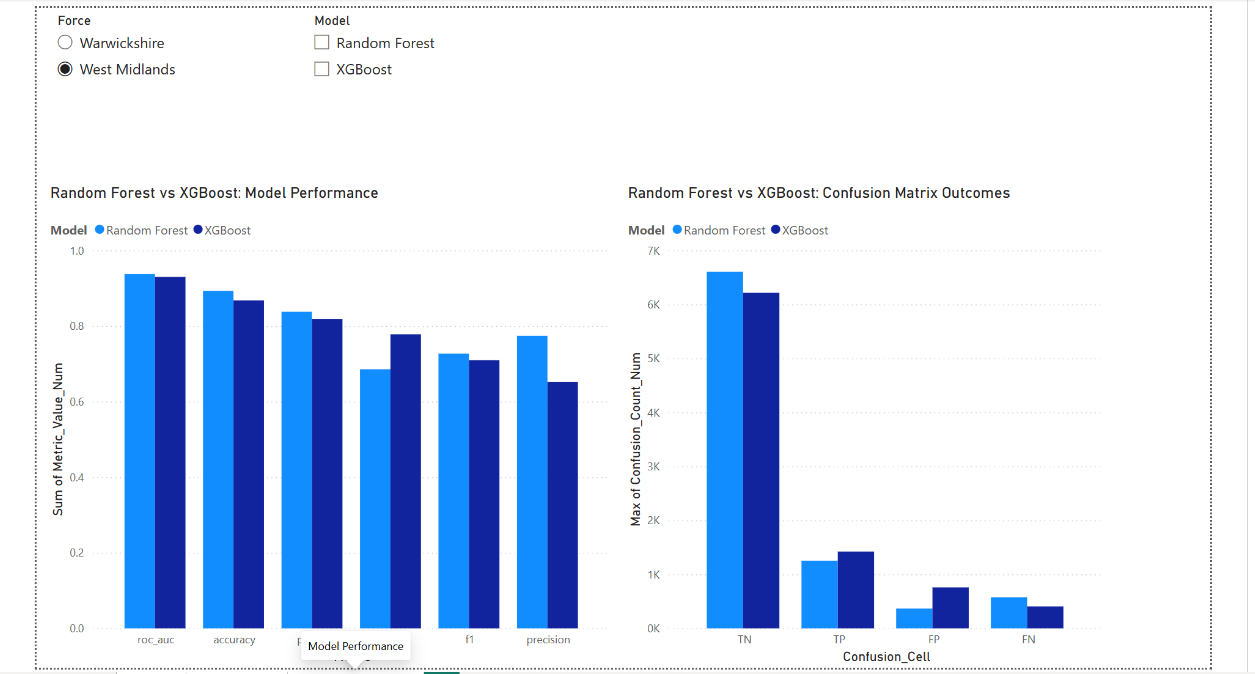

The page's visual inventory and layout, read from the dashboard file:
{"tool":"powerbi","page":{"name":"Model Performance","canvas":[1280,720],"ordinal":2},"visuals":[{"type":"slicer","fields":{"Values":["CrimeHotspot.Force"]},"box":[10,0,280,102.2],"z":0},{"type":"slicer","fields":{"Values":["CrimeHotspot.Model"]},"box":[290,0,280,102.2],"z":1},{"type":"clusteredColumnChart","title":"Random Forest vs XGBoost: Model Performance","fields":{"Series":["CrimeHotspot.Model"],"Category":["CrimeHotspot.Metric"],"Y":["Sum(CrimeHotspot.Metric_Value_Num)"]},"box":[10,191.1,622.2,528.9],"z":2},{"type":"clusteredColumnChart","title":"Random Forest vs XGBoost: Confusion Matrix Outcomes","fields":{"Category":["CrimeHotspot.Confusion_Cell"],"Series":["CrimeHotspot.Model"],"Y":["Max(CrimeHotspot.Confusion_Count_Num)"]},"box":[640,191.1,530,529],"z":3}]}

Visuals, with their boxes on the page's 1280x720 design canvas (x1, y1, x2, y2). These are canvas units, not pixel positions in the 1255x674 screenshot, which may show the page scaled, cropped or inside an application window:
slicer - CrimeHotspot.Force: 10/0/290/102
slicer - CrimeHotspot.Model: 290/0/570/102
"Random Forest vs XGBoost: Model Performance" clusteredColumnChart: 10/191/632/720
"Random Forest vs XGBoost: Confusion Matrix Outcomes" clusteredColumnChart: 640/191/1170/720
